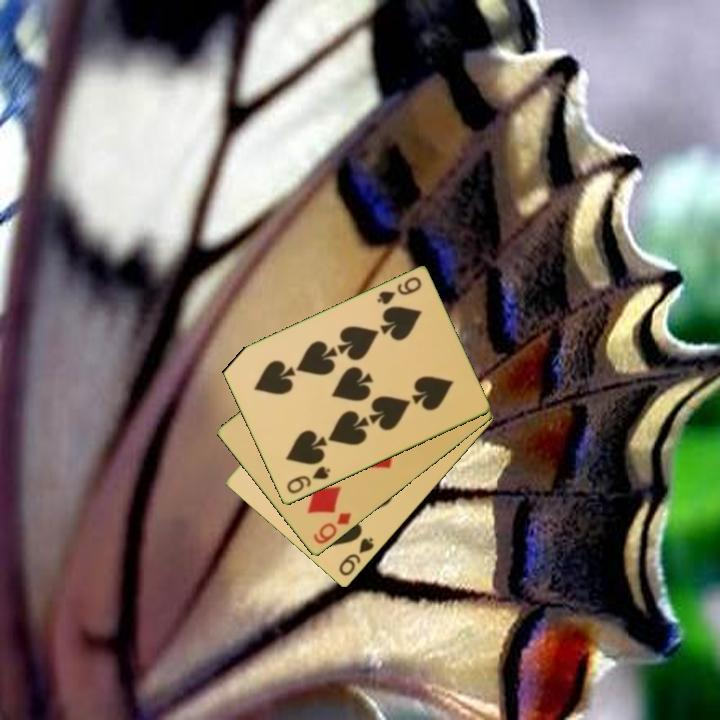6d: (310, 509, 354, 547)
9s: (335, 534, 377, 579), (373, 273, 424, 308), (283, 463, 333, 497)
